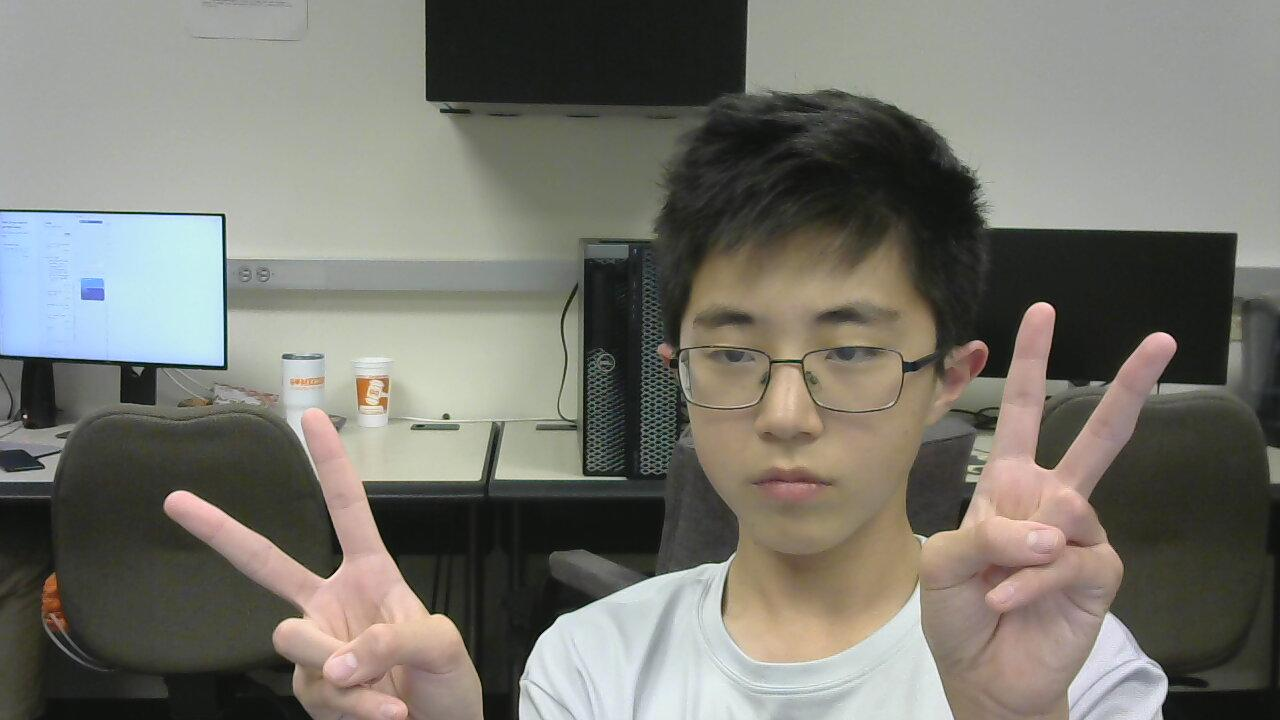peace: (888, 284, 1264, 720), (153, 387, 496, 720)
